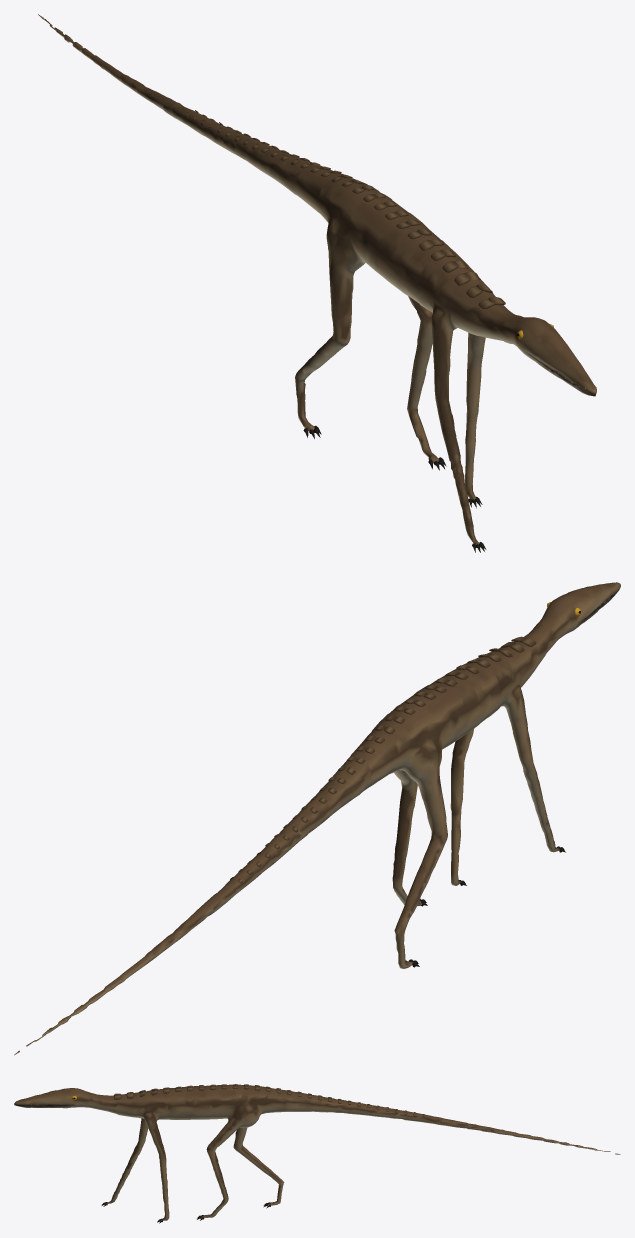
Rendered from Terrestrisuchus.fbx.
The picture shows the model from 3 angles, top to bottom: view 1: azimuth 30°, elevation 25°; view 2: azimuth 150°, elevation 25°; view 3: azimuth 270°, elevation 25°; orthographic projection. The views are drawn at different scales.
Visible parts, largest first — view 1: Terrestrisuchus; view 2: Terrestrisuchus; view 3: Terrestrisuchus.
Boxes of the visible parts, x1=… form: Terrestrisuchus: x1=38, y1=14, x2=596, y2=552; Terrestrisuchus: x1=14, y1=582, x2=620, y2=1055; Terrestrisuchus: x1=14, y1=1084, x2=620, y2=1223.
Bounding box in the file's own units: 0.1613 × 0.4655 × 1.96.
